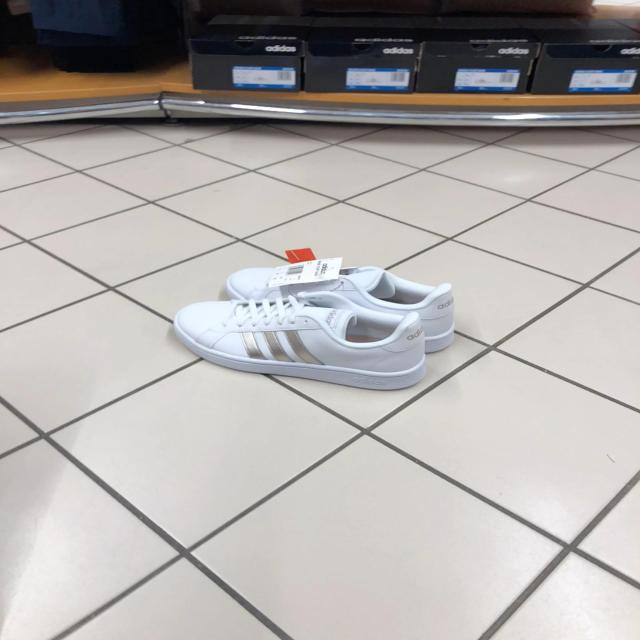shoe: (171, 290, 454, 393), (225, 260, 454, 350)
